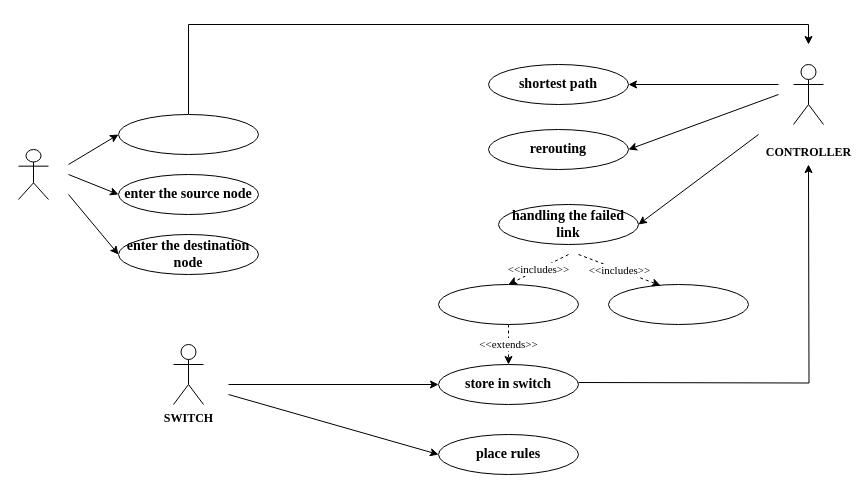
The diagram is 868 pixels wide and 492 high, and some of its shapes have lost their labels. The shapes that lost their labels are listed below. From the top down, each one's centre as x and y in pixels, then its label:
point (188, 134): sending message between switches
point (33, 174): USER
point (508, 304): packets started from source
point (678, 304): packets not started from source
